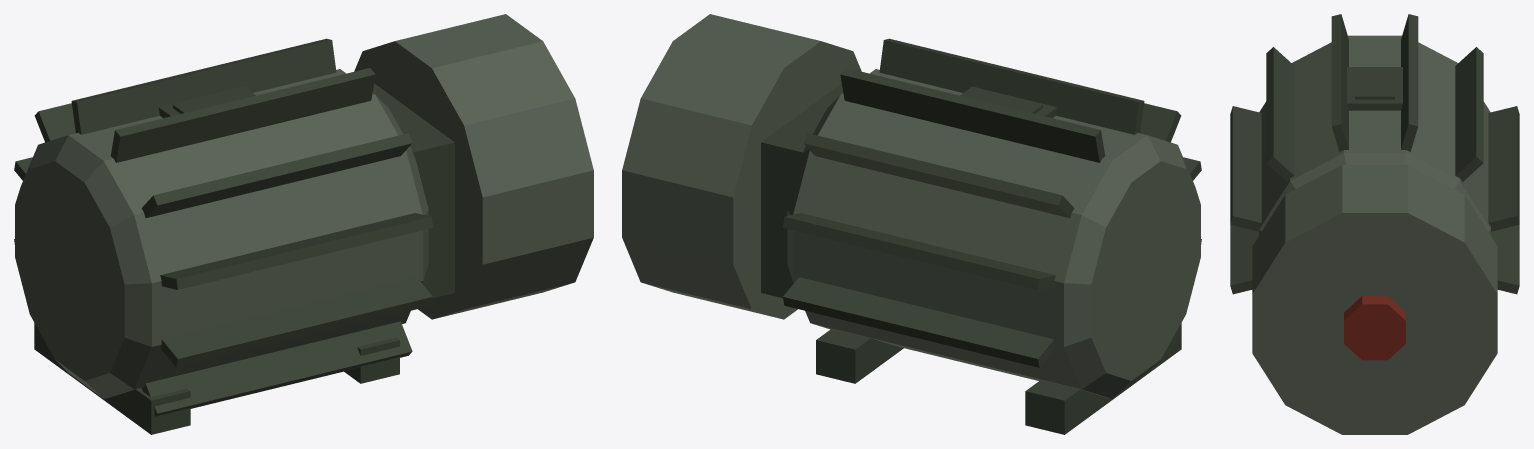
File: ko600_pump.obj
3 renders of one model, left to right at view 1: azimuth 30°, elevation 25°; view 2: azimuth 150°, elevation 25°; view 3: azimuth 270°, elevation 25°, orthographic. The views are drawn at different scales.
Visible parts, largest first — view 1: ko600_pump; view 2: ko600_pump; view 3: ko600_pump.
Boxes of the visible parts, left/top/right/bottom form: ko600_pump: left=14, top=14, right=593, bottom=434; ko600_pump: left=622, top=14, right=1201, bottom=434; ko600_pump: left=1230, top=14, right=1519, bottom=434.
Bounding box in the file's own units: 1.45 × 0.8037 × 0.8674.
